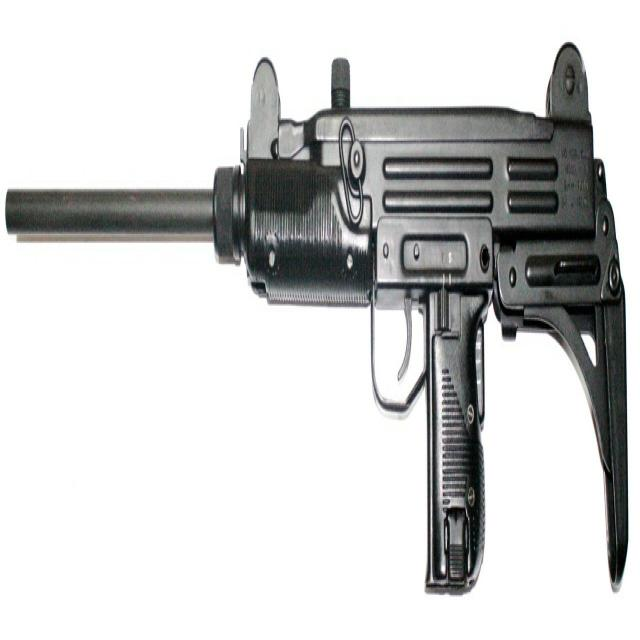SMG: (4, 42, 631, 601)
